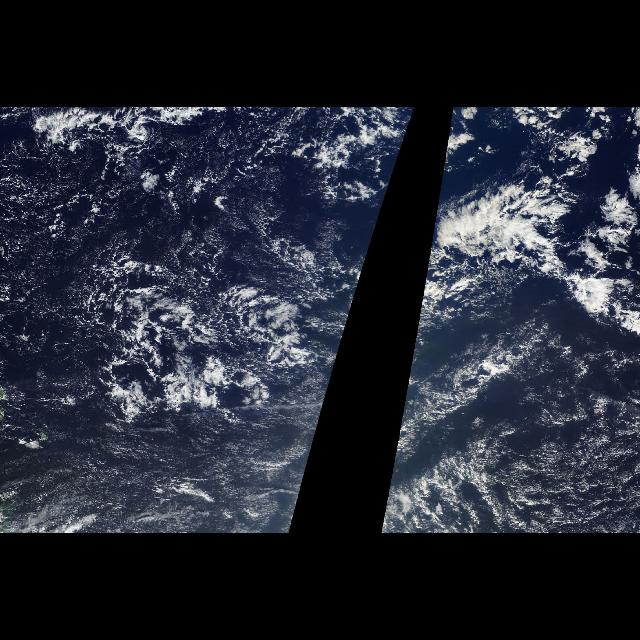Gravel: (4, 109, 394, 533)
Sugar: (6, 116, 292, 398), (382, 306, 640, 526), (2, 406, 314, 526)
